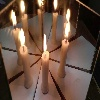fire: (43, 33, 47, 58)
